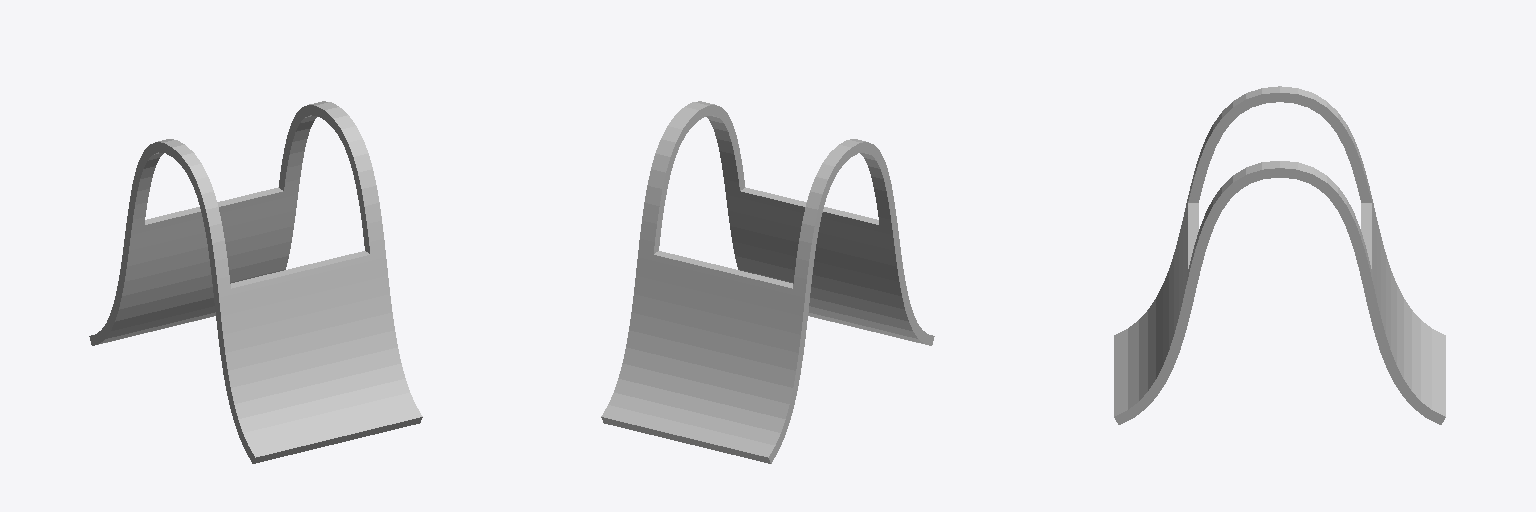
Rendered from desk0.obj.
The picture shows the model from 3 angles: view 1: azimuth 30°, elevation 25°; view 2: azimuth 150°, elevation 25°; view 3: azimuth 270°, elevation 25°; orthographic projection.
Visible parts, largest first — view 1: Mesh1 Difference Model; view 2: Mesh1 Difference Model; view 3: Mesh1 Difference Model.
Part boxes in pixels (left/top/right/bottom): Mesh1 Difference Model: left=89, top=101, right=422, bottom=463; Mesh1 Difference Model: left=601, top=101, right=934, bottom=463; Mesh1 Difference Model: left=1114, top=86, right=1445, bottom=424.
Size of the model in its own units: 3 by 4.41 by 5.16.